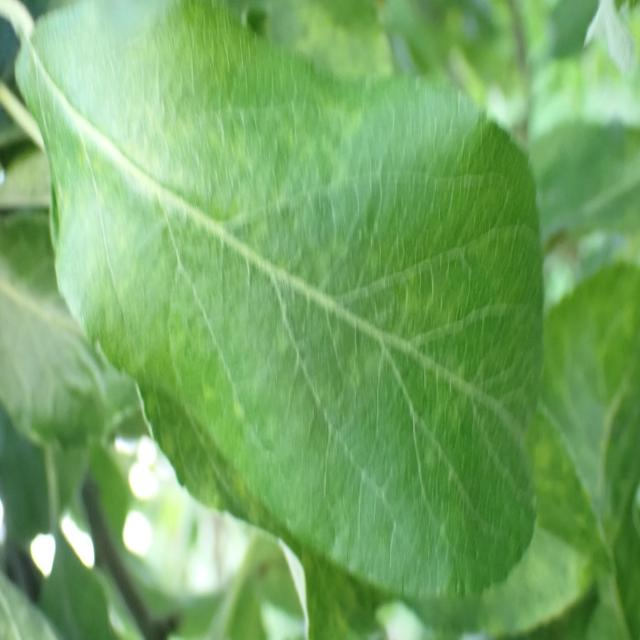scab: (47, 41, 520, 562)
